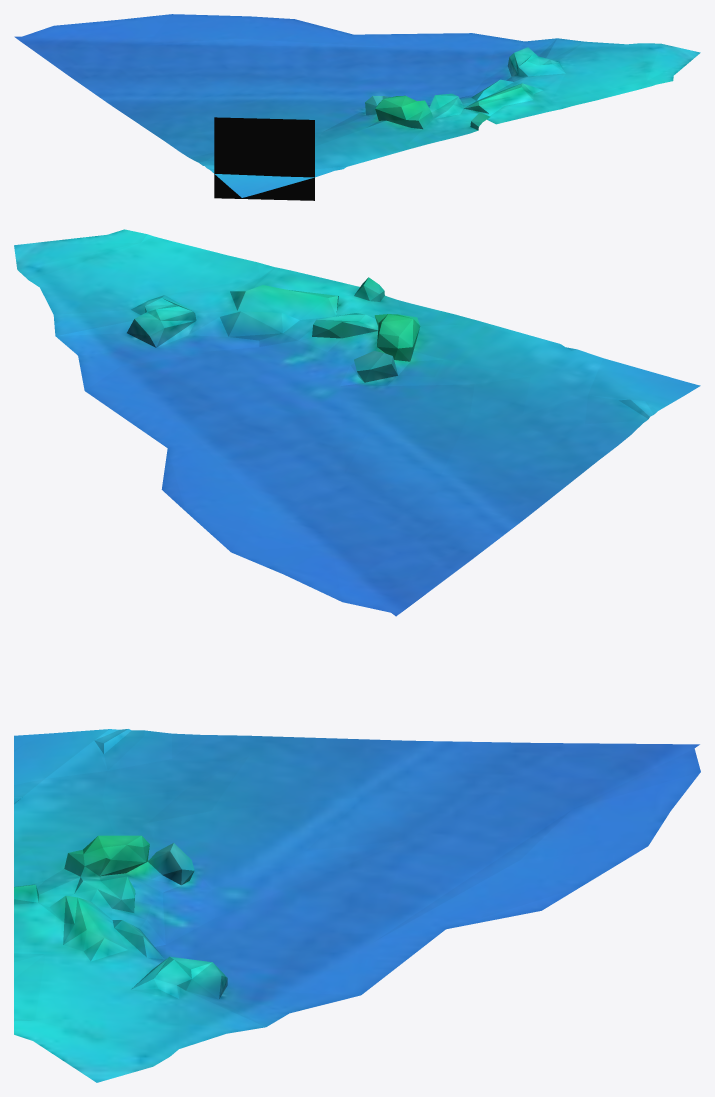
3 renders of one model, top to bottom at view 1: azimuth 30°, elevation 25°; view 2: azimuth 150°, elevation 25°; view 3: azimuth 270°, elevation 25°, orthographic. The views are drawn at different scales.
Size of the model in its own units: 56.64 by 9 by 46.04.
Materials: 2 (2 with a texture image).
